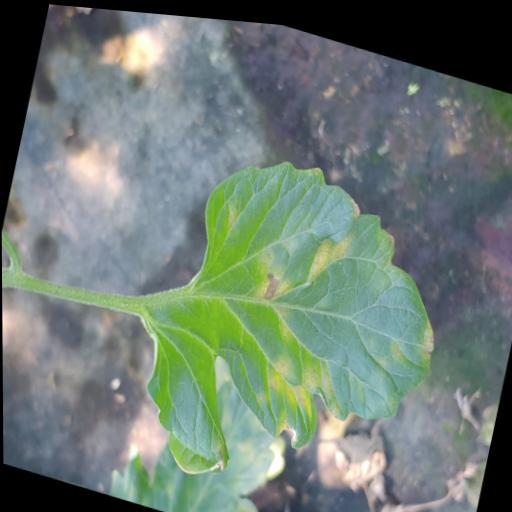Leaf Mold: (126, 124, 465, 512)
